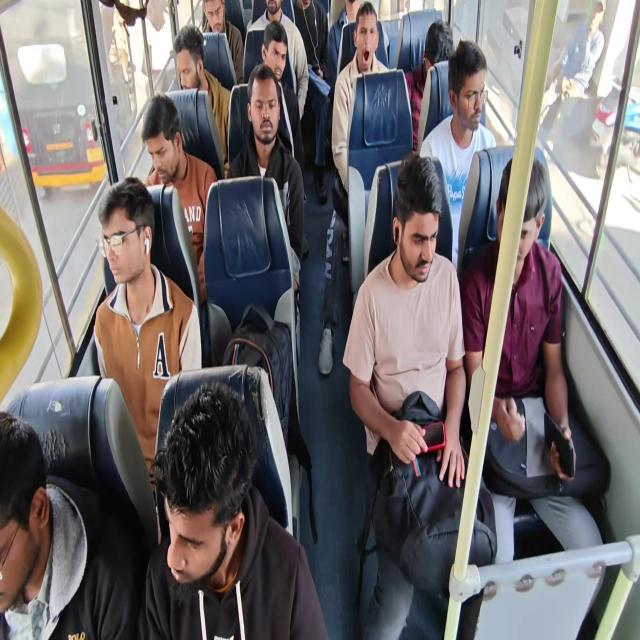person: (148, 369, 238, 640), (101, 184, 159, 340), (507, 157, 558, 315), (398, 160, 450, 272), (131, 104, 169, 210), (346, 18, 390, 88), (244, 72, 275, 156), (253, 23, 292, 85), (161, 36, 196, 103), (419, 12, 453, 80), (451, 46, 481, 115), (342, 0, 373, 48), (198, 0, 234, 31), (257, 0, 284, 39), (300, 0, 320, 25)
